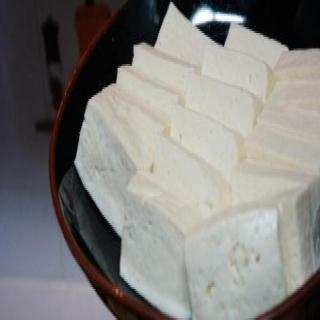Tahu: (75, 4, 320, 320)
